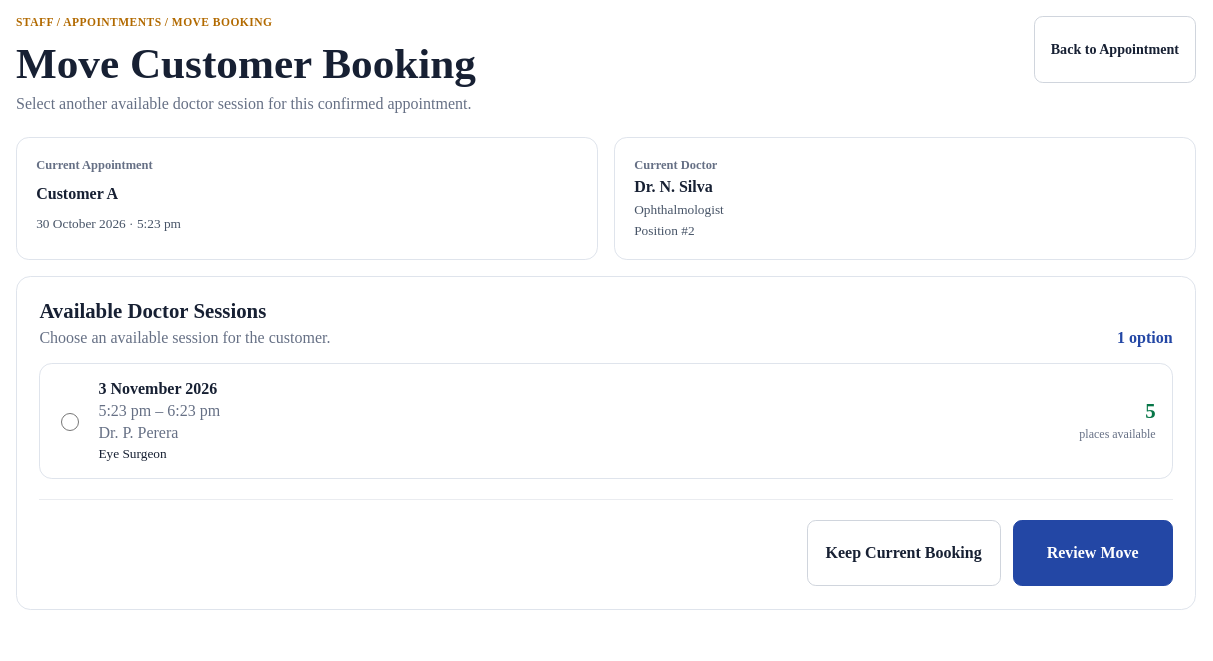
Test: StaffMoveAppointmentPage › requires a target session before confirmation
Check: the text "Dr. P. Perera" is shown, box [98,424,178,440]
What coordinates should you click on to do the following:
click the button "Review Move"
I would click on:
 (1093, 553)
Its box is [1013,520,1173,586].
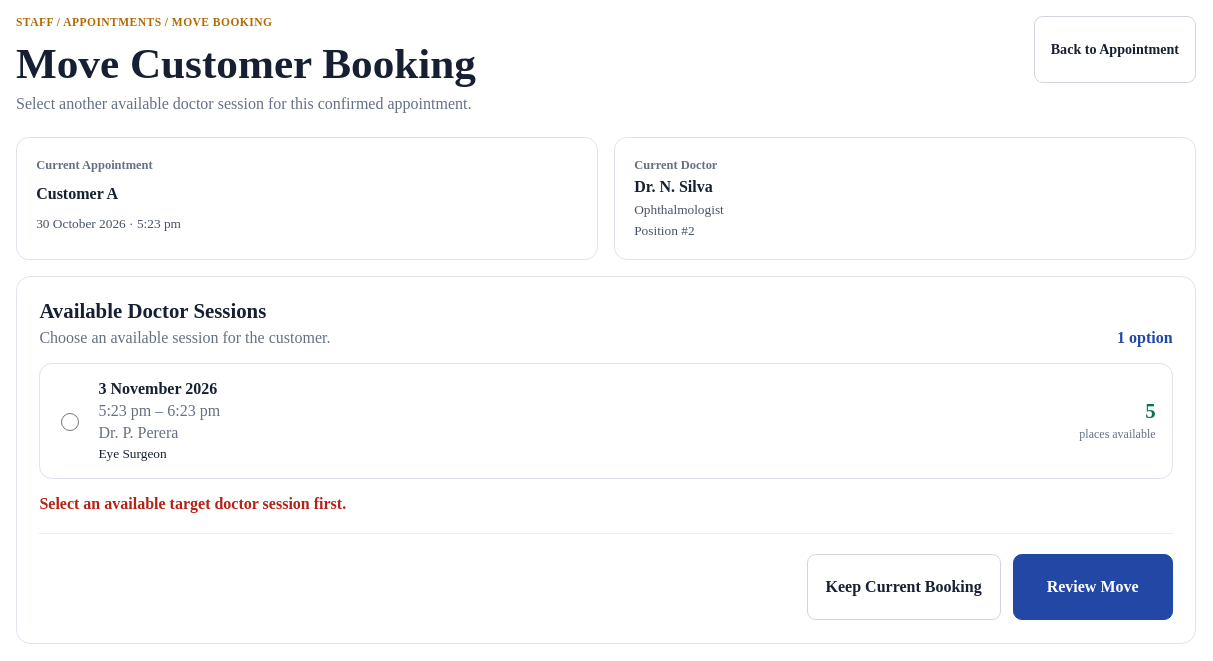
Check: the message reads "Select an available target doctor session first.", box [39,494,346,512]
